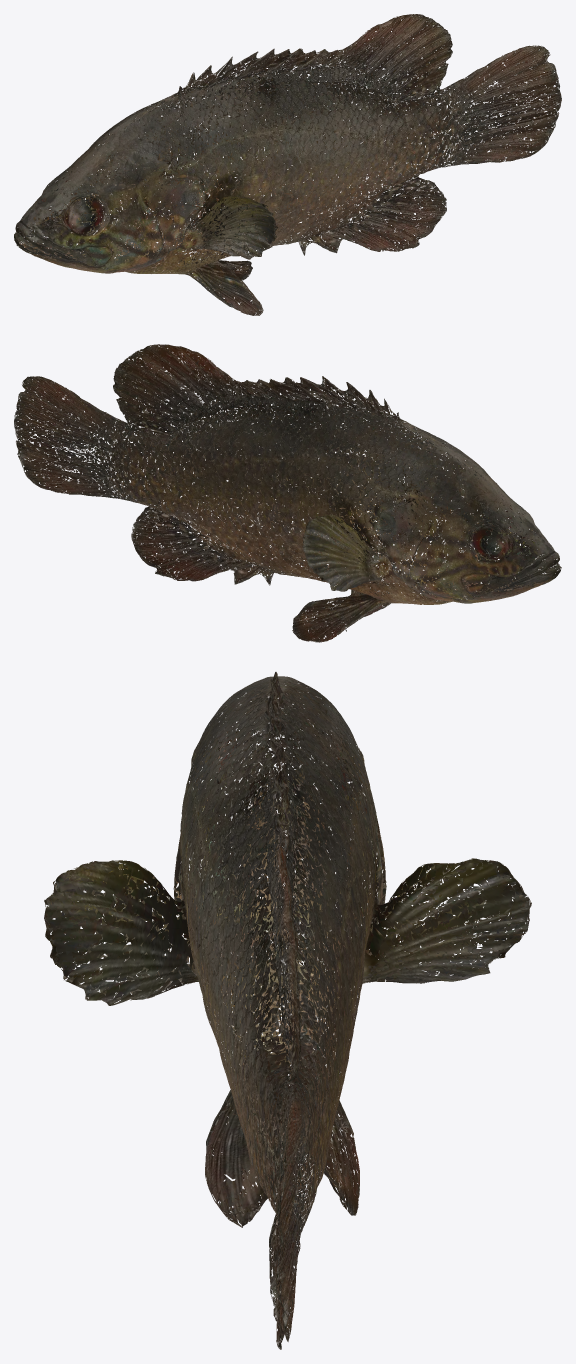
File: mandarin.glb
The picture shows the model from 3 angles, top to bottom: view 1: azimuth 30°, elevation 25°; view 2: azimuth 150°, elevation 25°; view 3: azimuth 270°, elevation 25°; orthographic projection. The views are drawn at different scales.
Parts seen in each view (by area): view 1: Object_11, Object_6; view 2: Object_6, Object_11; view 3: Object_11, Object_6.
Boxes of the visible parts, x1,y1,x2,y2 form: Object_11: (14, 14, 561, 315); Object_6: (14, 14, 561, 315); Object_6: (14, 344, 561, 642); Object_11: (14, 344, 561, 642); Object_11: (44, 672, 531, 1349); Object_6: (44, 672, 531, 1348).
Bounding box in the file's own units: 8.69 × 3.91 × 3.38.
Materials: 2 (2 with a texture image).
